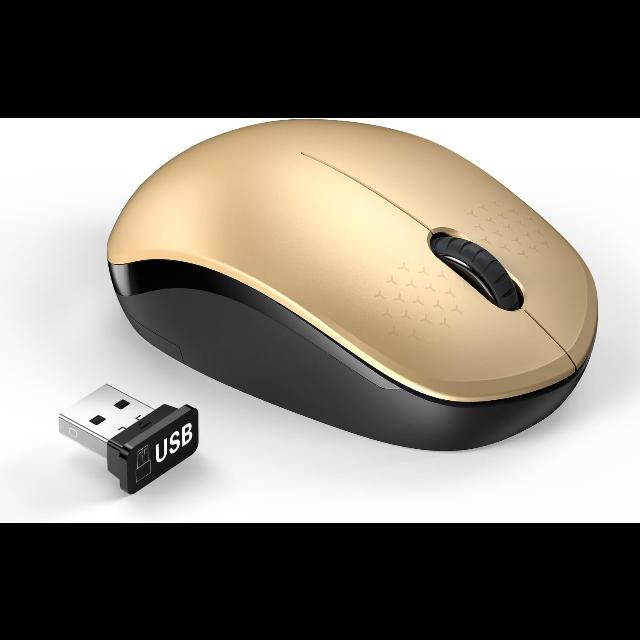Computer-Mouse: (106, 119, 599, 453)
